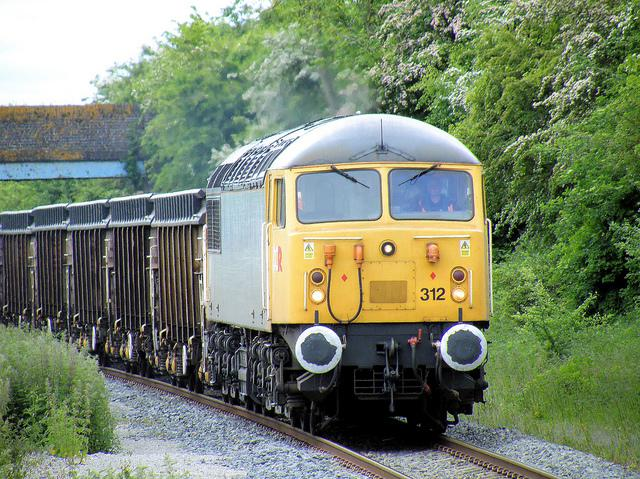Train: (0, 115, 491, 443)
